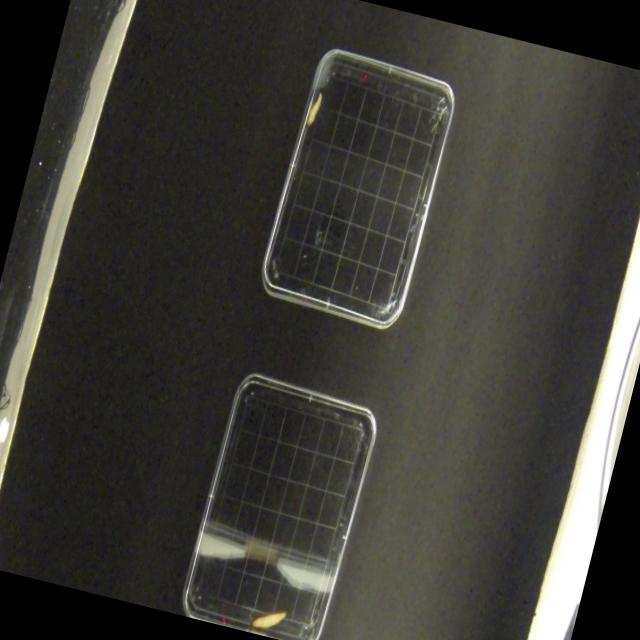larva: (250, 604, 287, 636), (304, 88, 328, 130)
